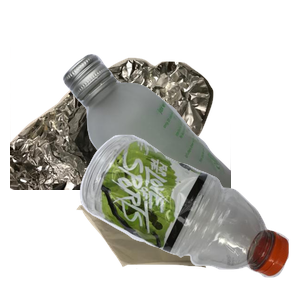glass: (60, 51, 300, 231)
metal: (10, 47, 216, 227)
plastic: (77, 132, 300, 300)
trash: (74, 148, 273, 300)
